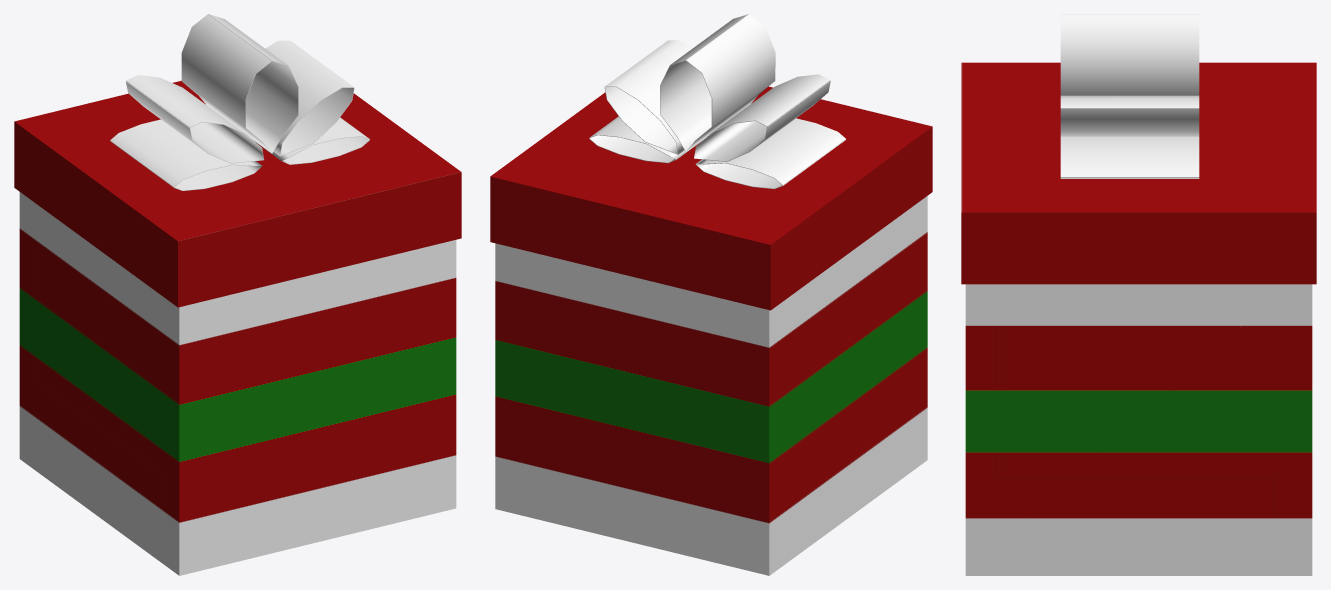
The model's file is present_striped_ver3.fbx.
3 views of the same model, side by side, from view 1: azimuth 30°, elevation 25°; view 2: azimuth 150°, elevation 25°; view 3: azimuth 270°, elevation 25° (orthographic). The views are drawn at different scales.
Visible parts, largest first — view 1: Box, Top; view 2: Box, Top; view 3: Box, Top.
Part boxes in pixels (x1,y1,x2,y2): Box: (19,192,456,575); Top: (14,14,461,307); Box: (495,196,927,575); Top: (490,14,932,310); Box: (965,284,1312,575); Top: (961,14,1316,284).
Size of the model in its own units: 10.24 by 15.52 by 10.24.
